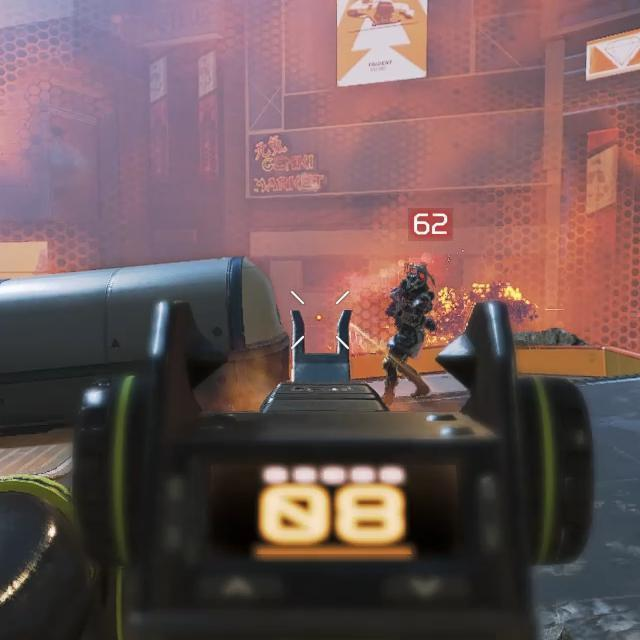avatar: (382, 256, 435, 401)
